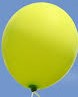Balloon: (2, 2, 78, 90)
